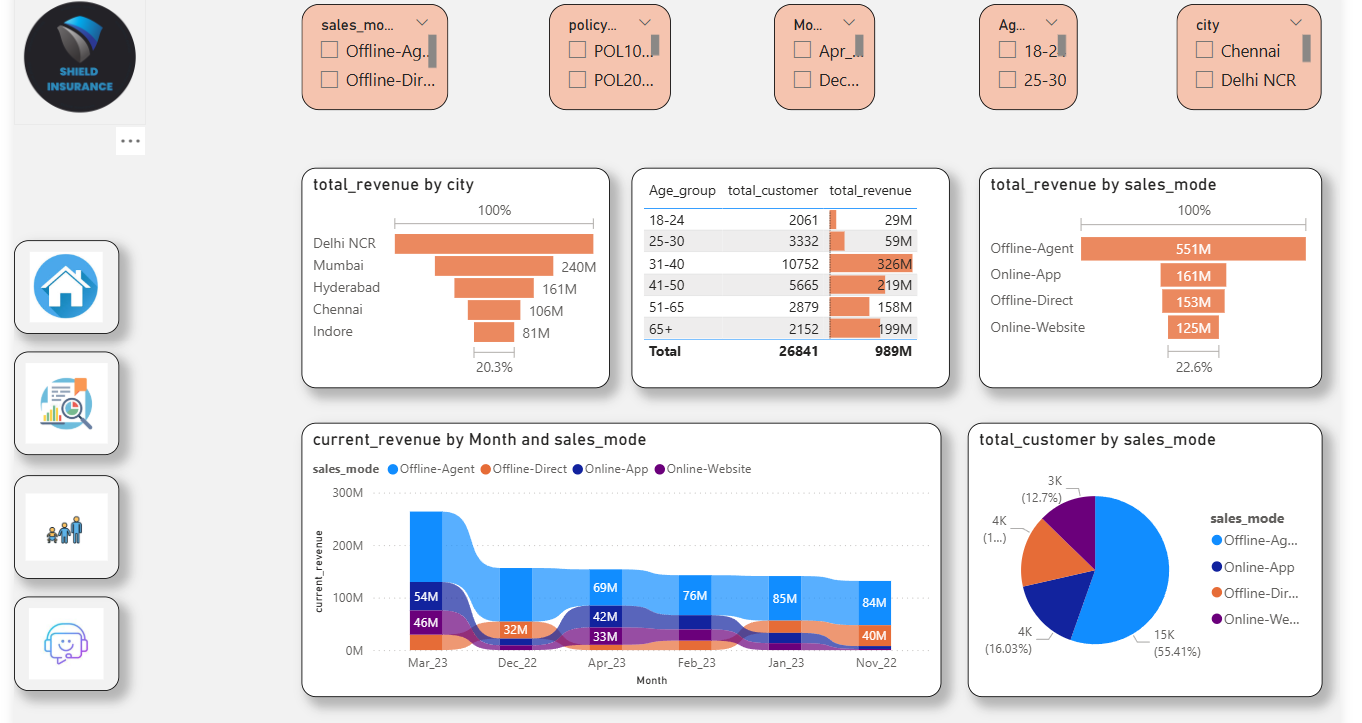

The dashboard page shown, as its layout file describes it:
{"tool":"powerbi","page":{"name":"Sales_analysis","canvas":[1280,720],"ordinal":2},"visuals":[{"type":"pieChart","fields":{"Category":["dim_policies.sales_mode"],"Y":["dim_customer.total_customer"]},"box":[920,418.8,342.5,265],"z":1000},{"type":"funnel","fields":{"Category":["dim_policies.sales_mode"],"Y":["dim_customer.total_revenue"]},"box":[931.2,172.5,331.2,212.5],"z":2000},{"type":"slicer","fields":{"Values":["dim_customer.city"]},"box":[1122.5,15,140,102.5],"z":3000},{"type":"slicer","fields":{"Values":["dim_policies.Age_group"]},"box":[931.2,15,95,102.5],"z":4000},{"type":"slicer","fields":{"Values":["dim_policies.mmm_yy"]},"box":[733.8,15,97.5,102.5],"z":5000},{"type":"slicer","fields":{"Values":["dim_policies.policy_id"]},"box":[516.2,15,117.5,102.5],"z":6000},{"type":"slicer","fields":{"Values":["dim_policies.sales_mode"]},"box":[277.5,15,141.2,102.5],"z":7000},{"type":"image","box":[0,586.2,101.2,91.2],"z":8000},{"type":"image","box":[0,242.5,101.2,90],"z":9000},{"type":"image","box":[0,350,101.2,100],"z":10000},{"type":"image","box":[0,468.8,101.2,100],"z":11000},{"type":"image","box":[0,0,127.5,131.2],"z":12000},{"type":"tableEx","fields":{"Values":["dim_policies.Age_group","dim_customer.total_customer","dim_customer.total_revenue"]},"box":[596.2,172.5,307.5,212.5],"z":13000},{"type":"ribbonChart","fields":{"Y":["dim_customer.current_revenue"],"Category":["dim_policies.Month"],"Series":["dim_policies.sales_mode"]},"box":[277.5,418.8,617.5,265],"z":14000},{"type":"funnel","fields":{"Y":["dim_customer.total_revenue"],"Category":["dim_customer.city"]},"box":[277.5,172.5,297.5,212.5],"z":15000}]}

Visuals, with their boxes in screenshot pixels (x1, y1, x2, y2):
pieChart - dim_policies.sales_mode x dim_customer.total_customer: 963, 420, 1315, 692
funnel - dim_policies.sales_mode x dim_customer.total_revenue: 975, 167, 1315, 385
slicer - dim_customer.city: 1171, 5, 1315, 110
slicer - dim_policies.Age_group: 975, 5, 1072, 110
slicer - dim_policies.mmm_yy: 772, 5, 872, 110
slicer - dim_policies.policy_id: 548, 5, 669, 110
slicer - dim_policies.sales_mode: 303, 5, 448, 110
image: 18, 592, 122, 685
image: 18, 239, 122, 331
image: 18, 349, 122, 452
image: 18, 471, 122, 574
image: 18, 0, 149, 124
tableEx - dim_policies.Age_group x dim_customer.total_customer: 630, 167, 946, 385
ribbonChart - dim_customer.current_revenue x dim_policies.Month: 303, 420, 937, 692
funnel - dim_customer.total_revenue x dim_customer.city: 303, 167, 609, 385
